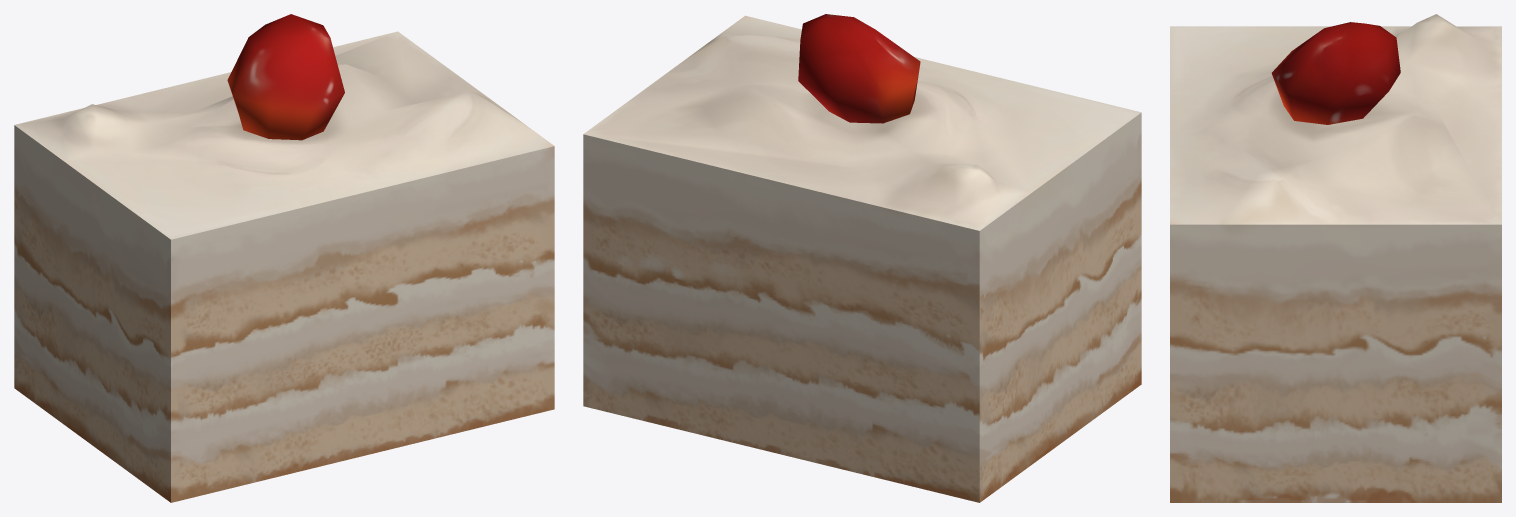
Rendered from cakewhite.fbx.
3 renders of one model, left to right at view 1: azimuth 30°, elevation 25°; view 2: azimuth 150°, elevation 25°; view 3: azimuth 270°, elevation 25°, orthographic. The views are drawn at different scales.
Visible parts, largest first — view 1: cakewhite, Sphere.005; view 2: cakewhite, Sphere.005; view 3: cakewhite, Sphere.005.
Boxes of the visible parts, x1,y1,x2,y2 form: cakewhite: (14, 31, 554, 502); Sphere.005: (227, 14, 344, 140); cakewhite: (583, 15, 1141, 502); Sphere.005: (798, 14, 920, 123); cakewhite: (1170, 14, 1501, 502); Sphere.005: (1271, 22, 1400, 124).
Bounding box in the file's own units: 21.61 × 19.89 × 15.3.
